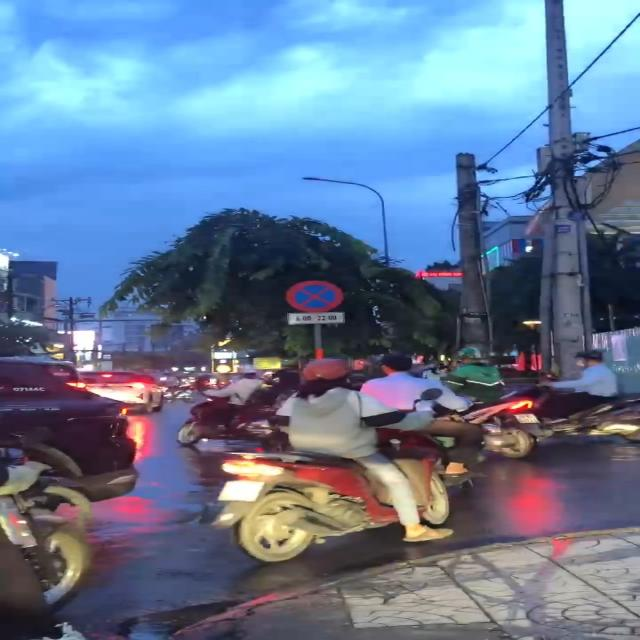Bien bao cam dung xe va do xe: (280, 277, 348, 313)
